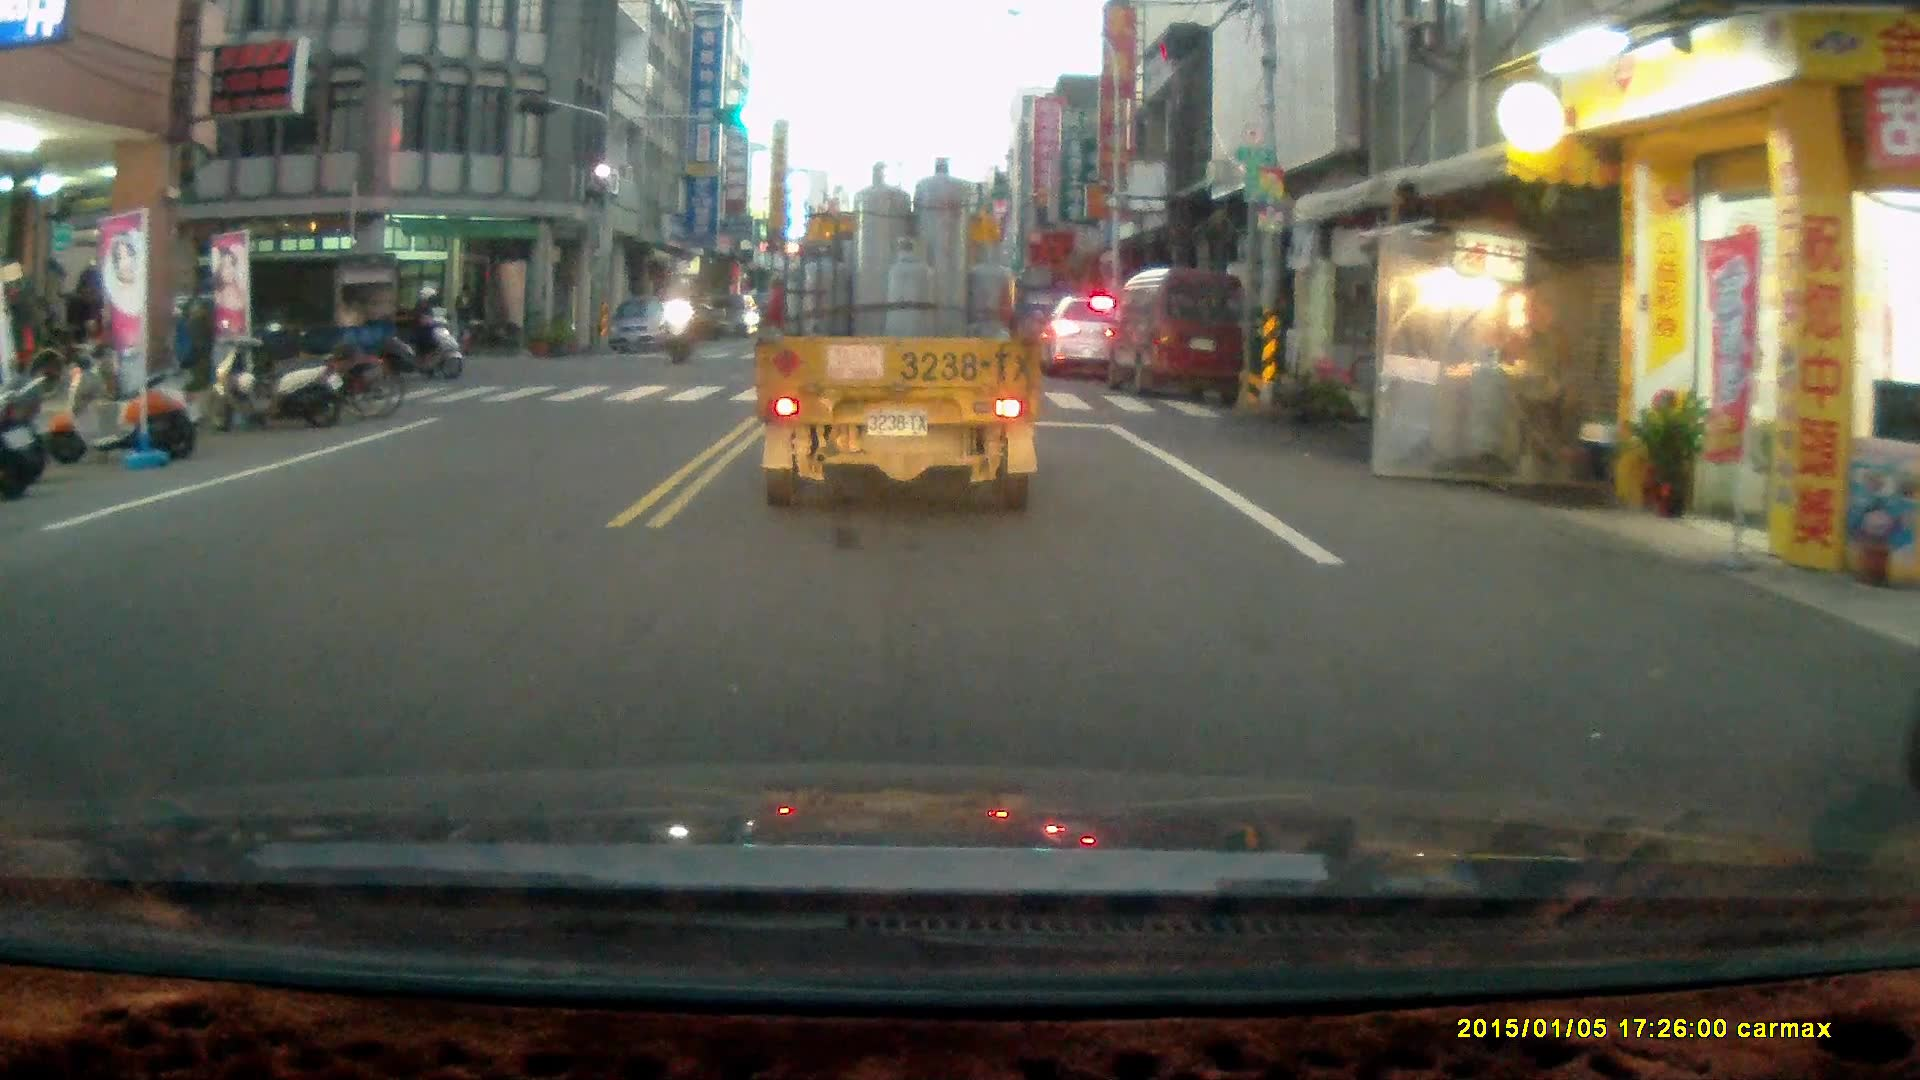pedestrian: (69, 263, 107, 372), (451, 278, 476, 355)
rider: (391, 284, 467, 383), (656, 272, 703, 367)
vehicle: (753, 162, 1034, 515), (141, 247, 406, 392), (1103, 266, 1249, 404), (1045, 294, 1130, 379), (609, 294, 683, 355)
